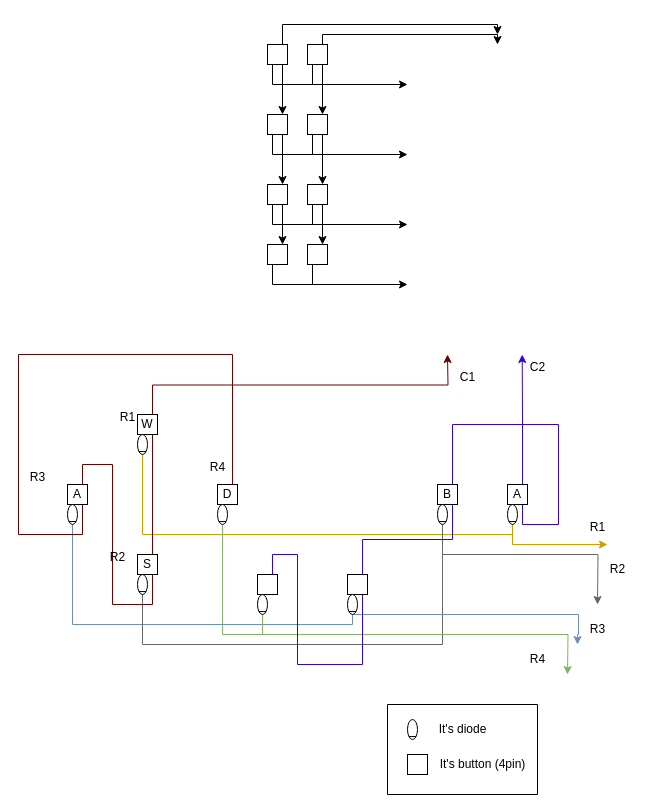
Some shapes in this 654 by 812 pixel diagram are drawn without their labels. Here are the shapes that lost their labels. From the top down, the box of each, then its label:
(256, 574, 278, 594): SE
(346, 574, 368, 594): ST
